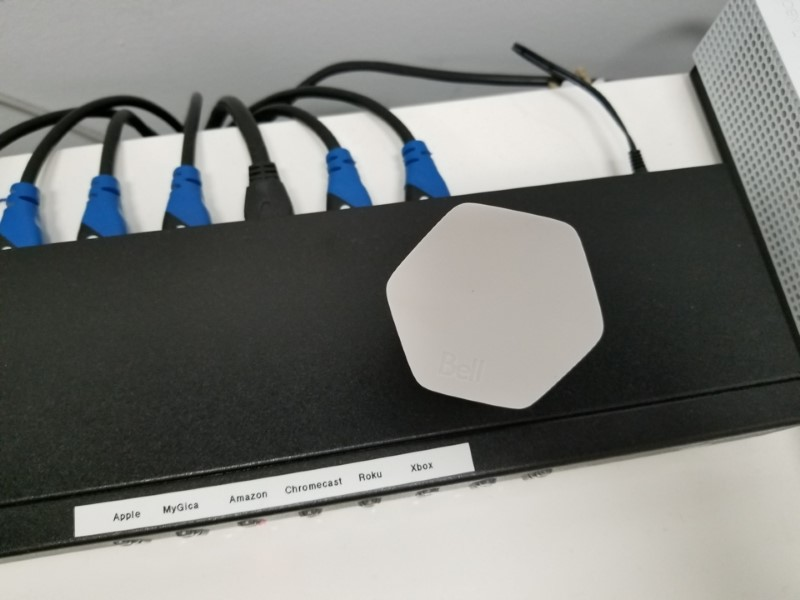pod: (384, 201, 612, 416)
